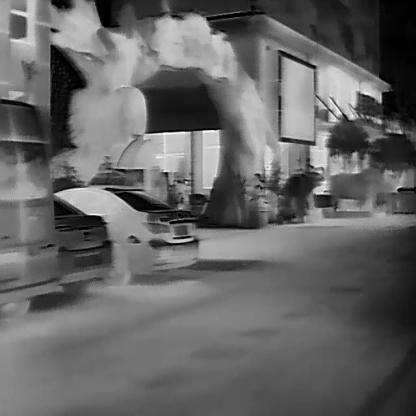car: (58, 187, 199, 283), (0, 97, 58, 319), (54, 192, 109, 282)
